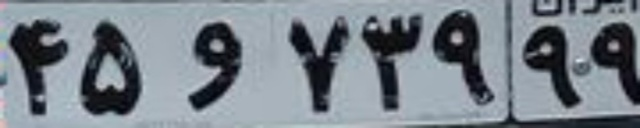3: (360, 14, 430, 110)
4: (10, 18, 73, 114)
5: (78, 21, 144, 115)
7: (285, 15, 352, 113)
9: (433, 9, 497, 104), (522, 23, 583, 107), (590, 20, 639, 107)
vav: (180, 18, 244, 109)
